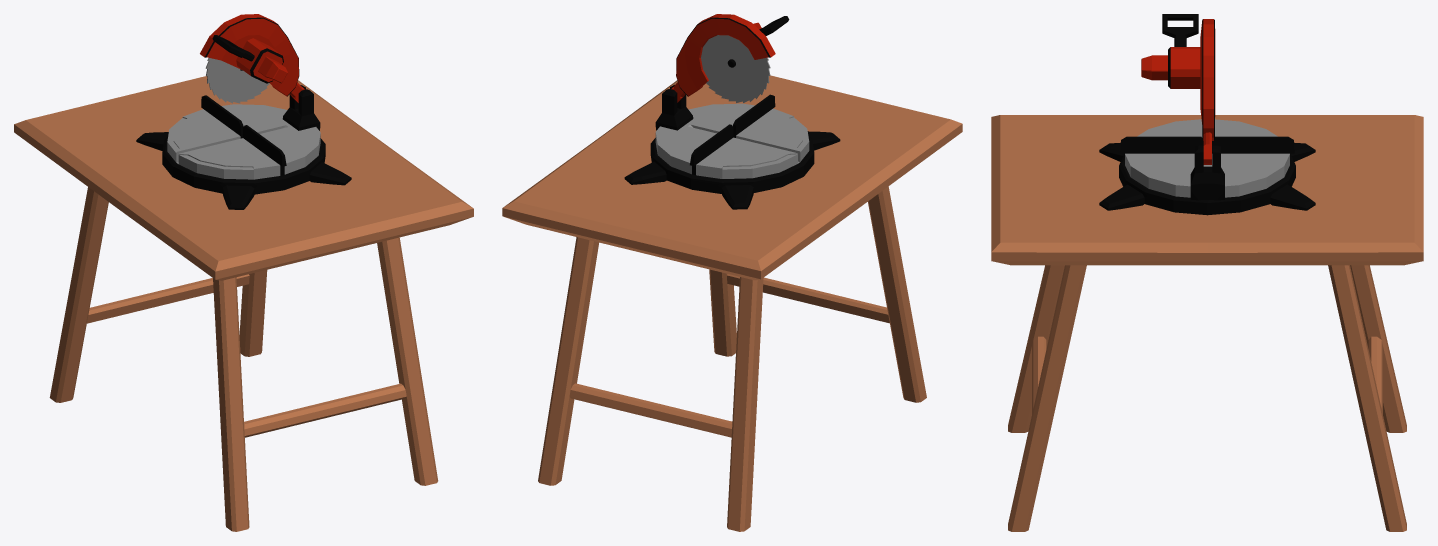
File: ziegel_sage.glb
3 renders of one model, left to right at view 1: azimuth 30°, elevation 25°; view 2: azimuth 150°, elevation 25°; view 3: azimuth 270°, elevation 25°, orthographic. The views are drawn at different scales.
Visible parts, largest first — view 1: Cube.014, Cylinder.004; view 2: Cube.014, Cylinder.004; view 3: Cube.014, Cylinder.004.
Boxes of the visible parts, bbox=[...] form: Cube.014: bbox=[14, 76, 473, 531]; Cylinder.004: bbox=[136, 14, 351, 209]; Cube.014: bbox=[502, 75, 962, 531]; Cylinder.004: bbox=[624, 14, 840, 209]; Cube.014: bbox=[991, 115, 1423, 531]; Cylinder.004: bbox=[1099, 14, 1315, 215].
Bounding box in the file's own units: 2.92 × 4.56 × 3.93.
